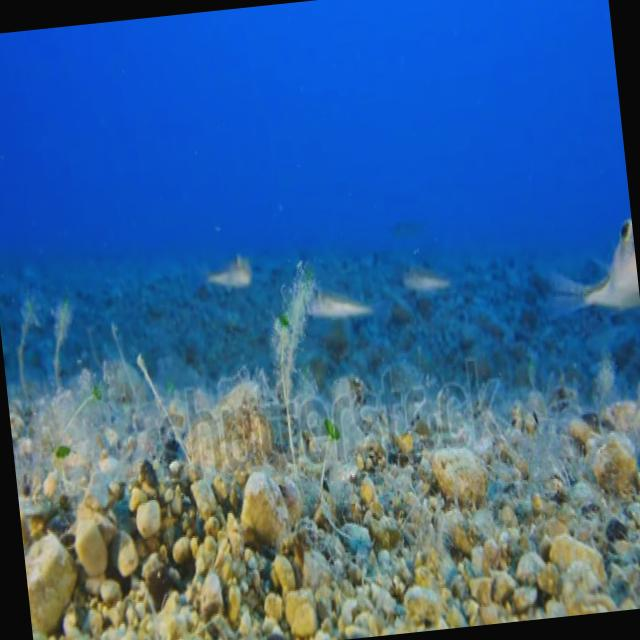Balon Baligi: (555, 206, 640, 320), (296, 274, 366, 327), (202, 249, 255, 292)
